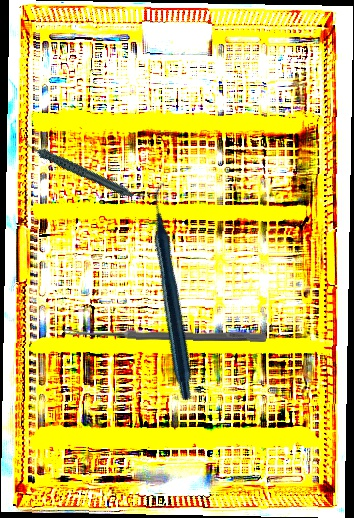Handpiece: (73, 179, 276, 404), (22, 119, 135, 218)
Surgical Spoon: (62, 328, 267, 342)
